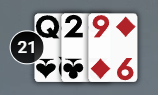2: (58, 10, 89, 41)
9: (86, 8, 115, 41)
q: (32, 11, 62, 41)
